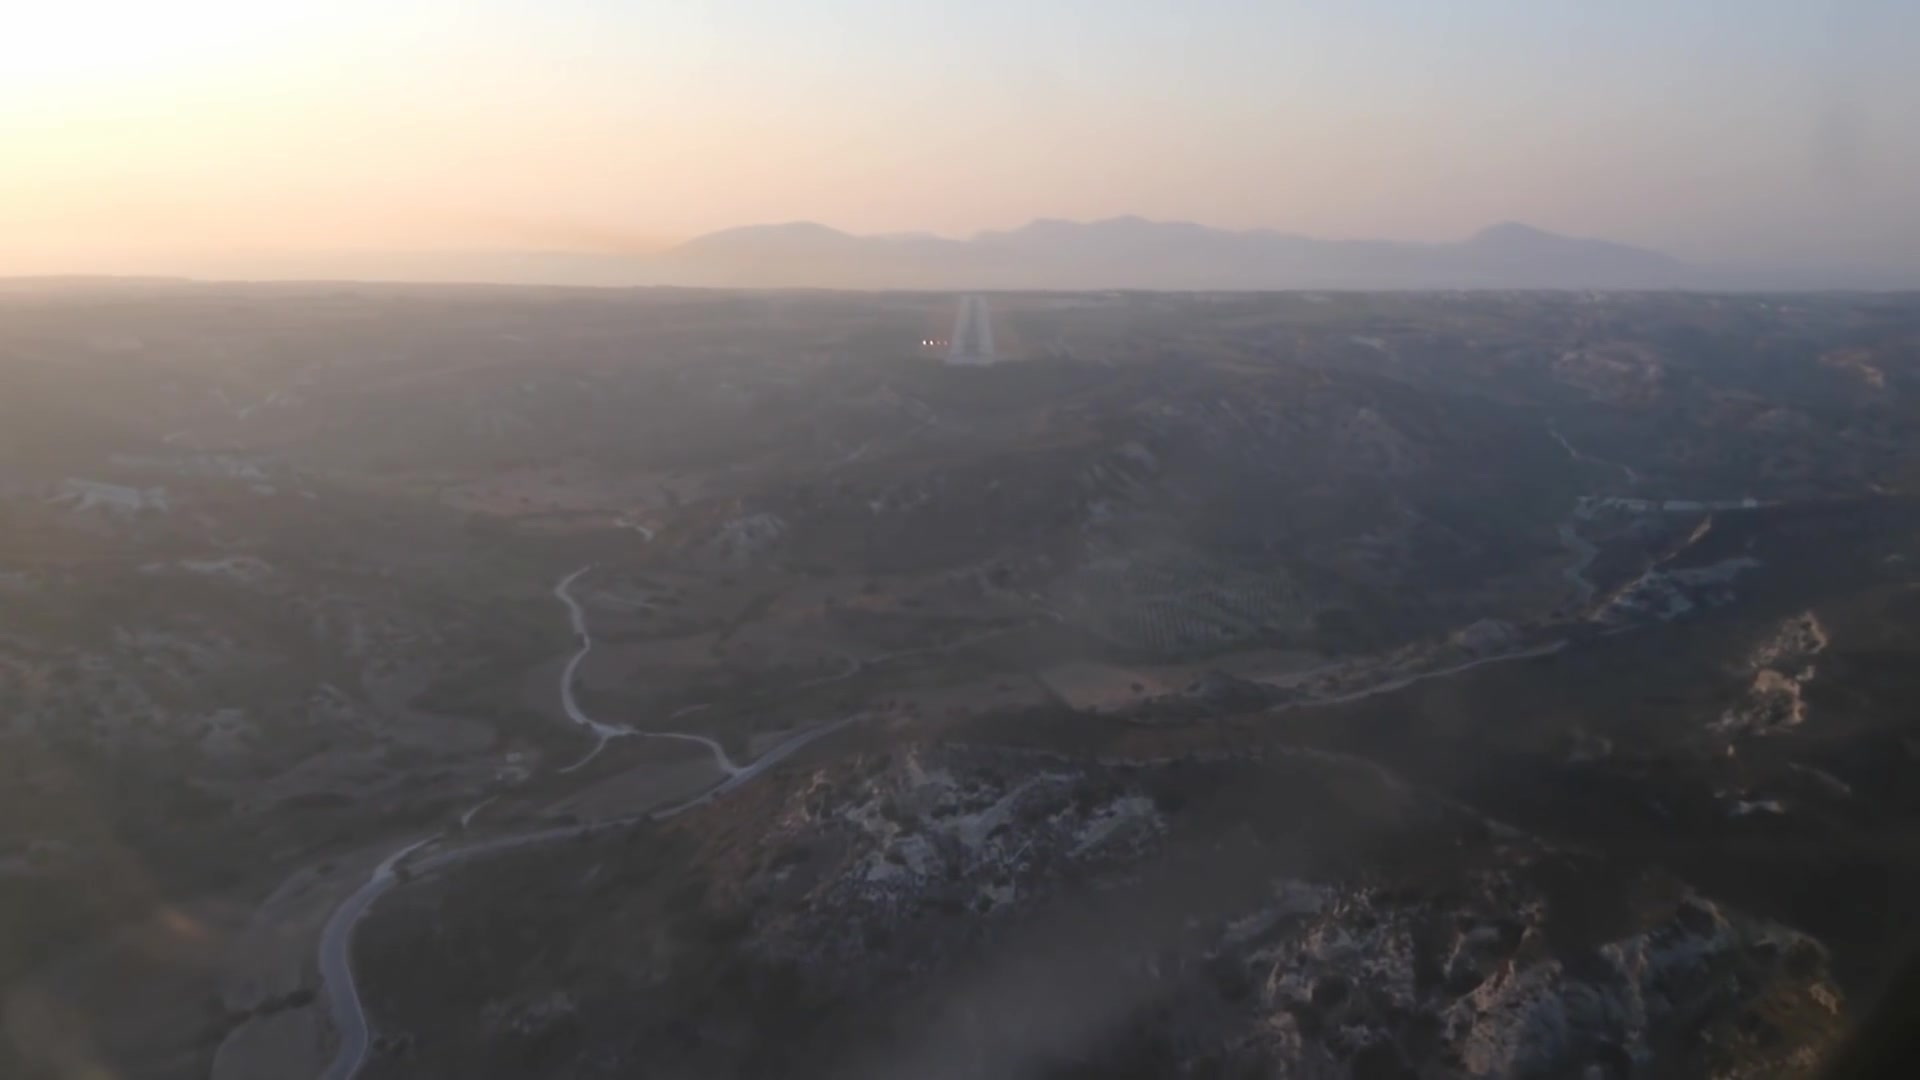runway: (943, 291, 1000, 369)
